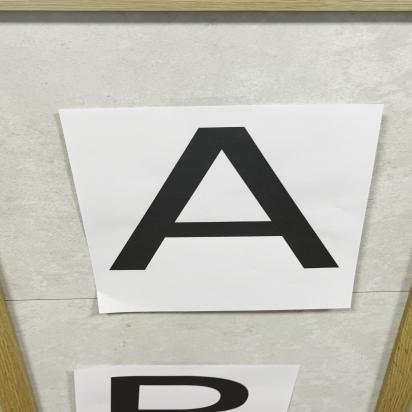seat: (110, 120, 376, 295)
